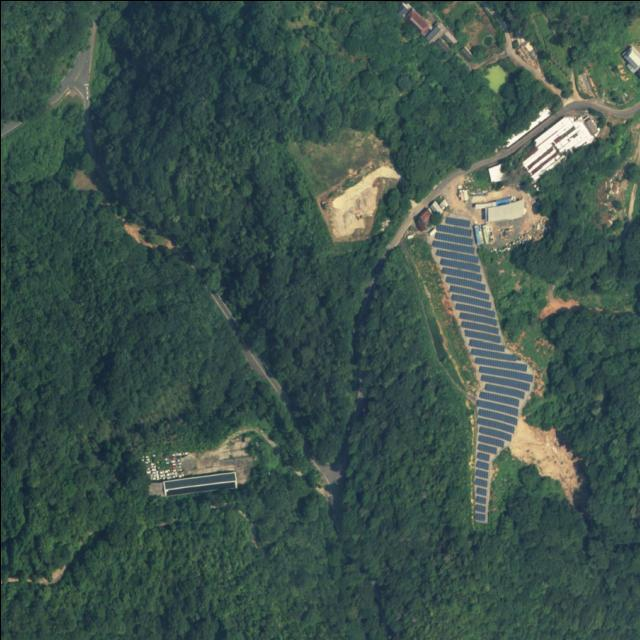landslide: (510, 416, 581, 504)
